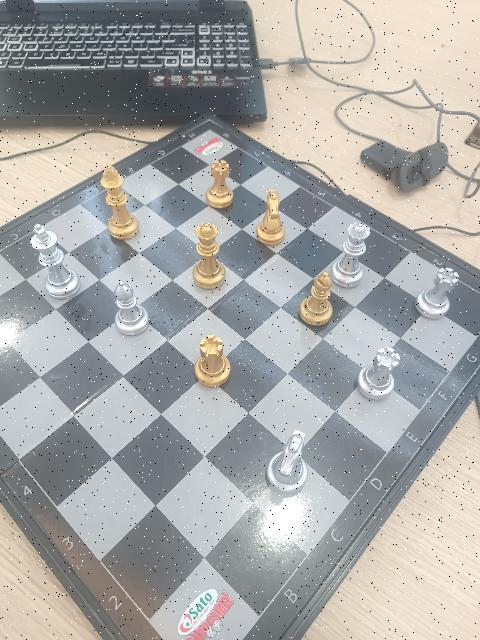black_bishop: (299, 271, 335, 328)
black_king: (101, 164, 139, 240)
black_knight: (256, 189, 286, 247)
black_queen: (192, 223, 226, 291)
black_rook: (195, 335, 232, 389), (205, 159, 235, 209)
white_bishop: (112, 281, 150, 337)
white_king: (31, 224, 79, 300)
white_knight: (265, 429, 311, 497)
white_queen: (332, 221, 371, 288)
white_rook: (414, 266, 461, 321), (356, 347, 402, 403)
